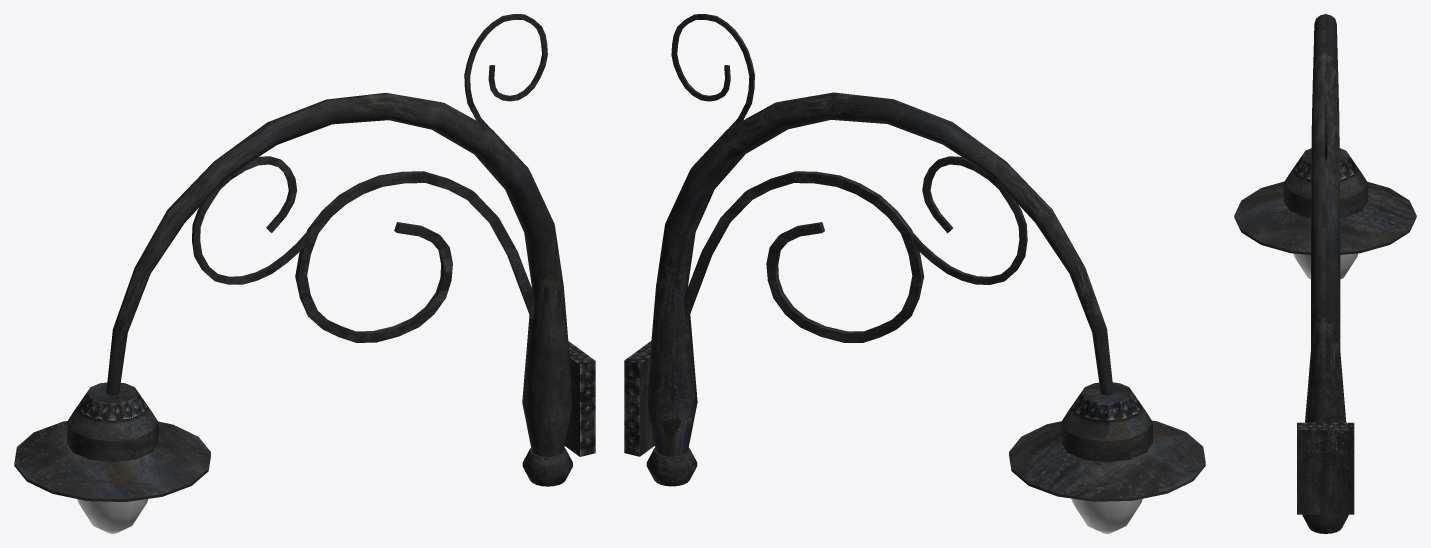
Rendered from streetlight_wall.DAE.
3 views of the same model, side by side, from view 1: azimuth 30°, elevation 25°; view 2: azimuth 150°, elevation 25°; view 3: azimuth 270°, elevation 25° (orthographic). The views are drawn at different scales.
Parts seen in each view (by area): view 1: Box013, Cylinder005; view 2: Box013, Cylinder005; view 3: Box013, Cylinder005.
Part boxes in pixels (<box>): Box013: <box>14,14,595,501</box>; Cylinder005: <box>77,499,148,533</box>; Box013: <box>624,14,1205,501</box>; Cylinder005: <box>1071,498,1142,533</box>; Box013: <box>1234,14,1416,533</box>; Cylinder005: <box>1293,253,1358,279</box>.
Bounding box in the file's own units: 2.19 × 1.79 × 0.6813.
